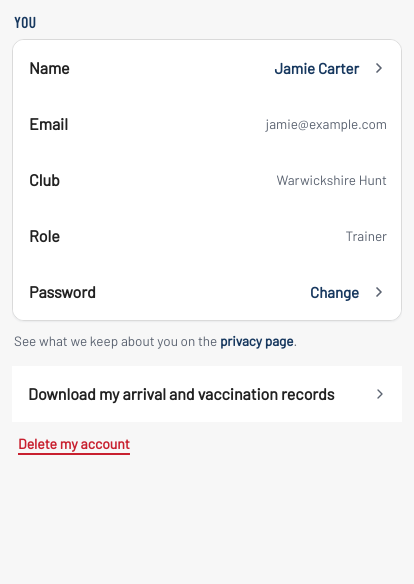
Test: AccountPage › falls back to a plain message when there is no signal
Click the button with aria-label "Name:" at (49, 67), box [13,40,401,96]
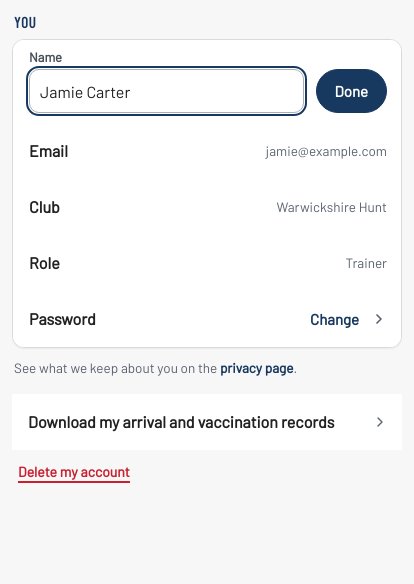
Type "!" into the field labelled "Name" at (166, 91), box [29,69,304,113]
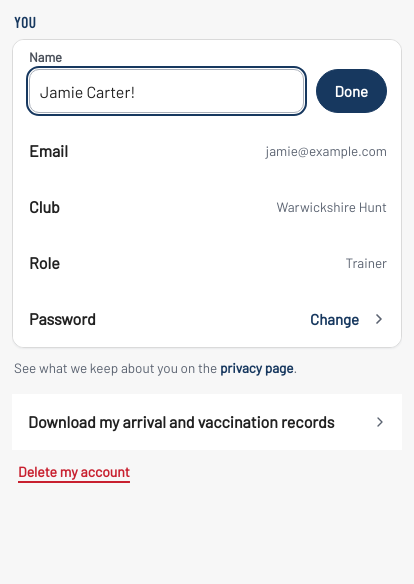
Click the button "Done" at (351, 91), box [316,69,387,113]
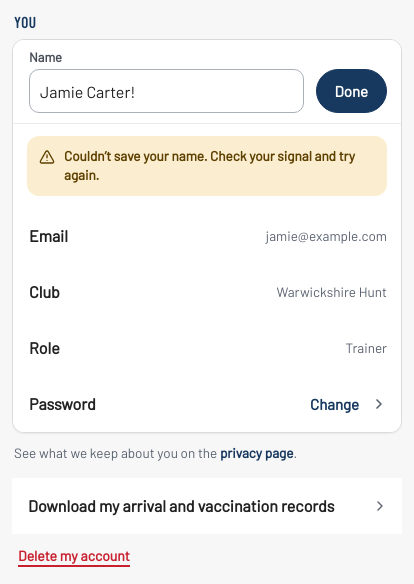
Expected: the message reads "Couldn’t save your name. Check your signal and try again.", [64,147,355,183]
